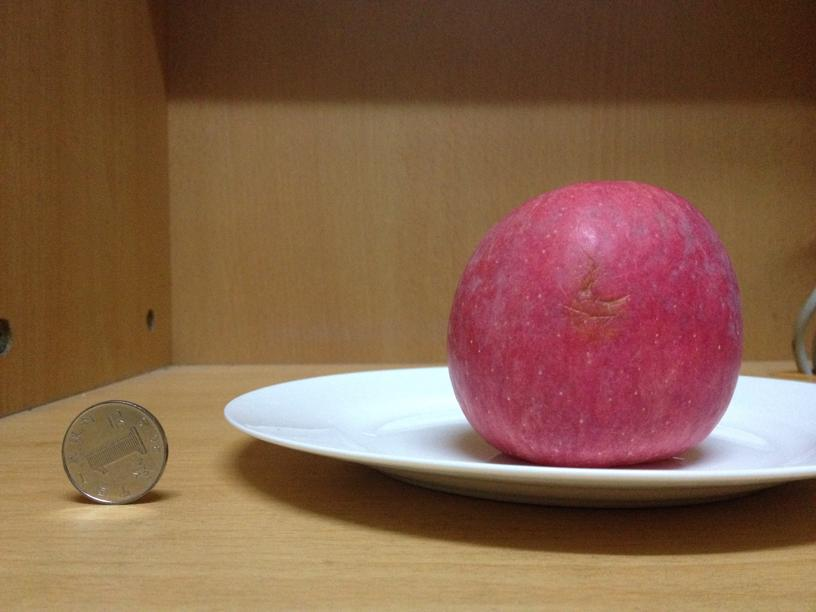apple: (448, 179, 745, 466)
coin: (61, 400, 169, 503)
